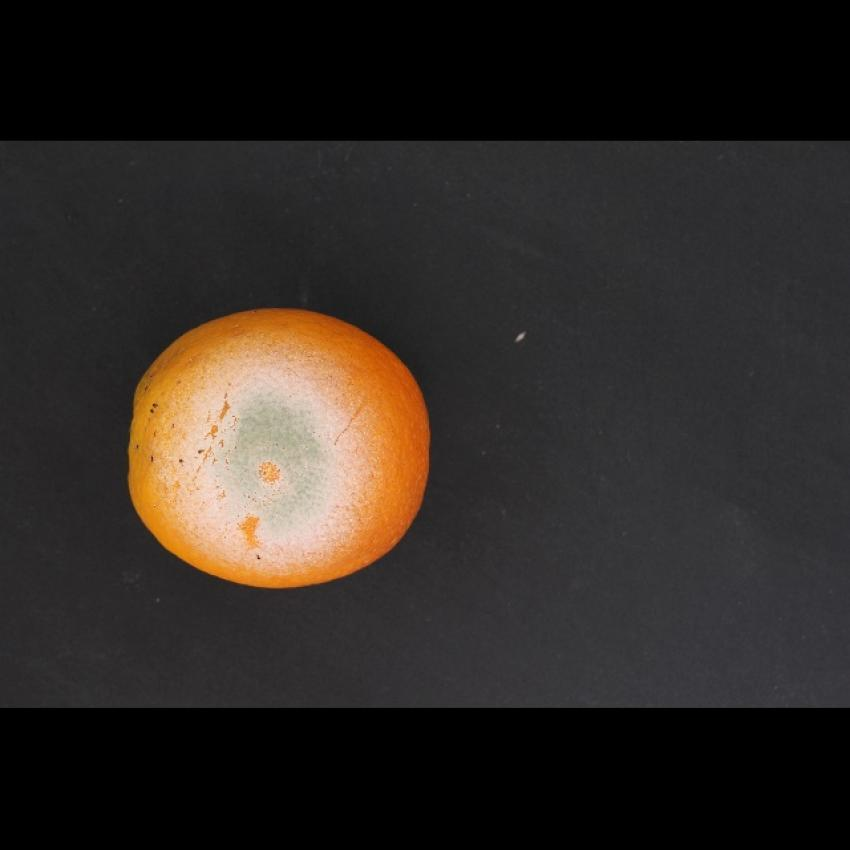Mal estado: (117, 298, 437, 600)
